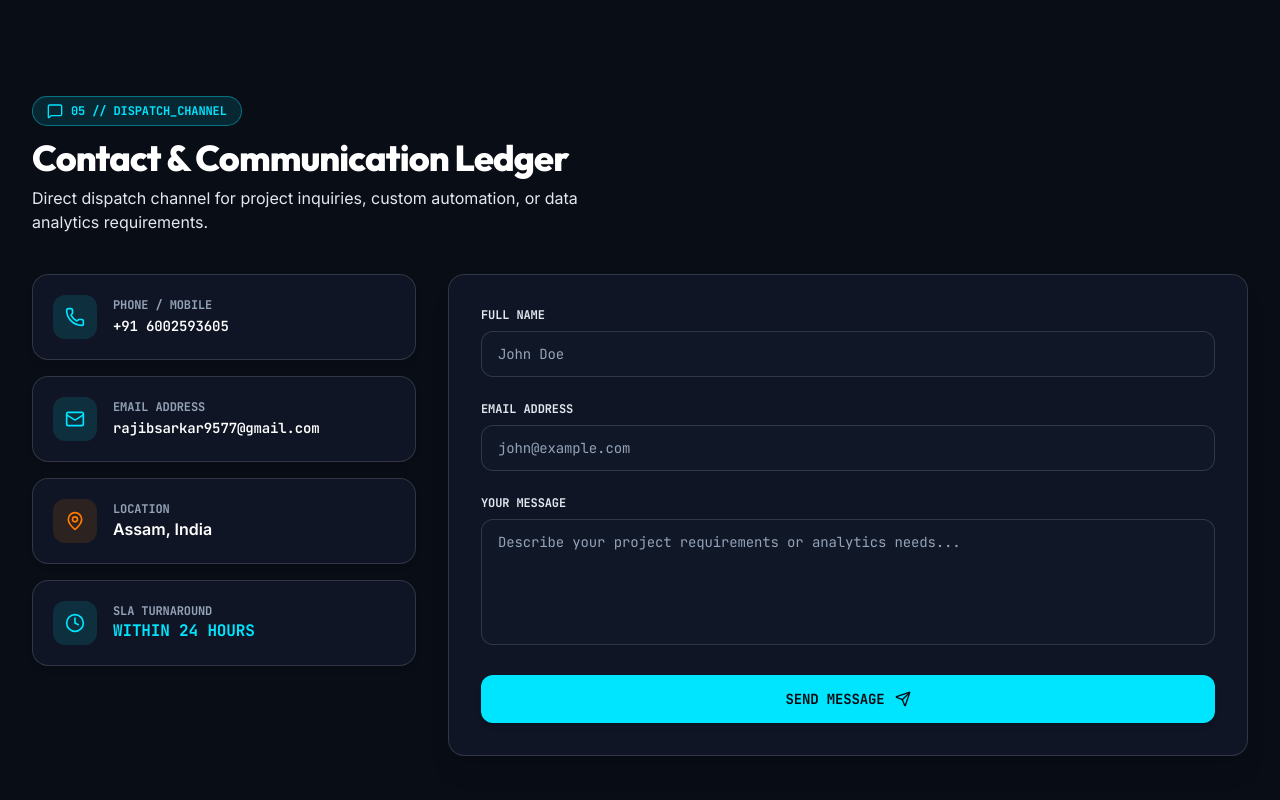
Scenario: Contact Form Validation › should display validation errors when fields are empty
The width and height of the screenshot is (1280, 800).
Step 1. Click the button "Send Message" → (848, 699), box [481,675,1215,723]
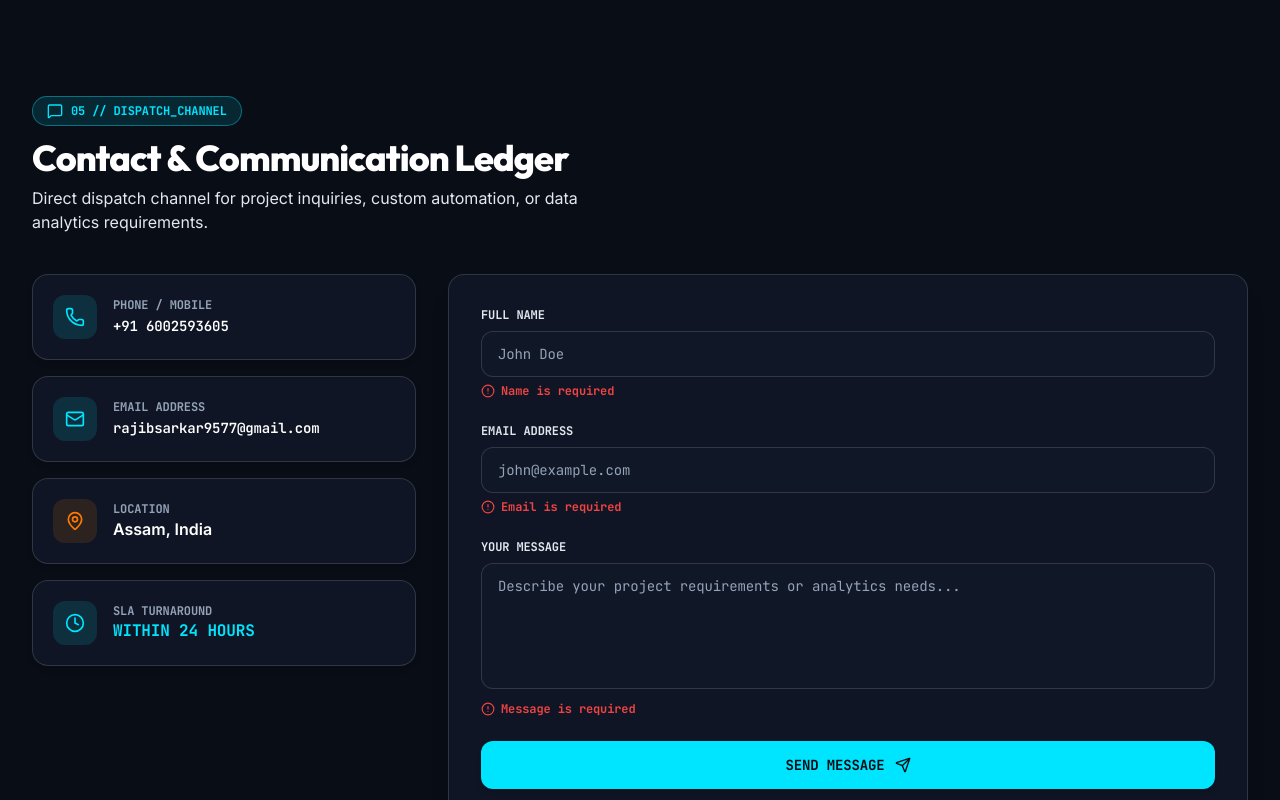
Check: the text "Name is required" is shown, box [501,383,614,399]
Check: the text "Email is required" is shown, box [501,499,621,515]
Check: the text "Message is required" is shown, box [501,701,636,717]
